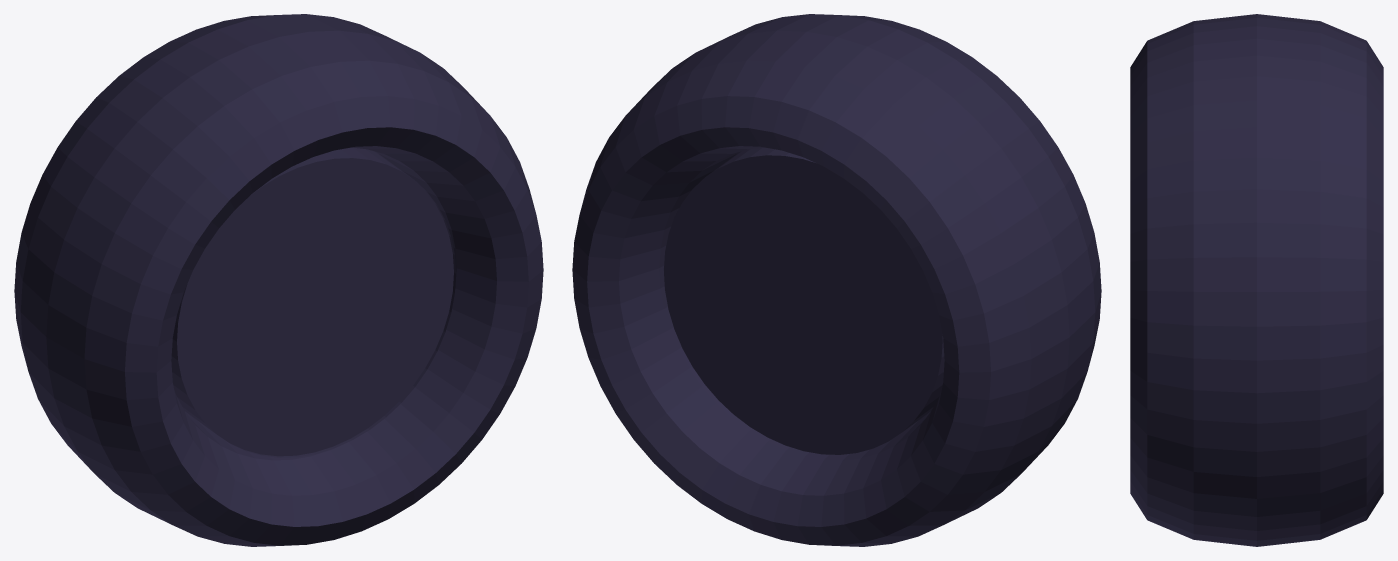
The model's file is RodaAna7.fbx.
3 views of the same model, side by side, from view 1: azimuth 30°, elevation 25°; view 2: azimuth 150°, elevation 25°; view 3: azimuth 270°, elevation 25° (orthographic).
Visible parts, largest first — view 1: Torus.003; view 2: Torus.003; view 3: Torus.003.
Boxes of the visible parts, x1=… form: Torus.003: x1=14, y1=14, x2=543, y2=546; Torus.003: x1=572, y1=14, x2=1101, y2=546; Torus.003: x1=1130, y1=14, x2=1383, y2=546.
Bounding box in the file's own units: 5.79 × 12.2 × 12.2.
